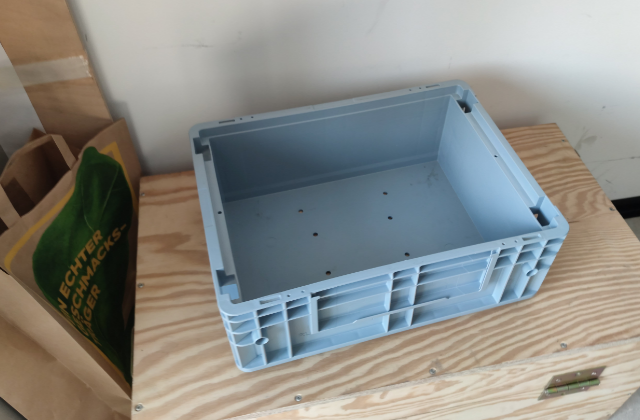Box: (186, 78, 570, 373)
